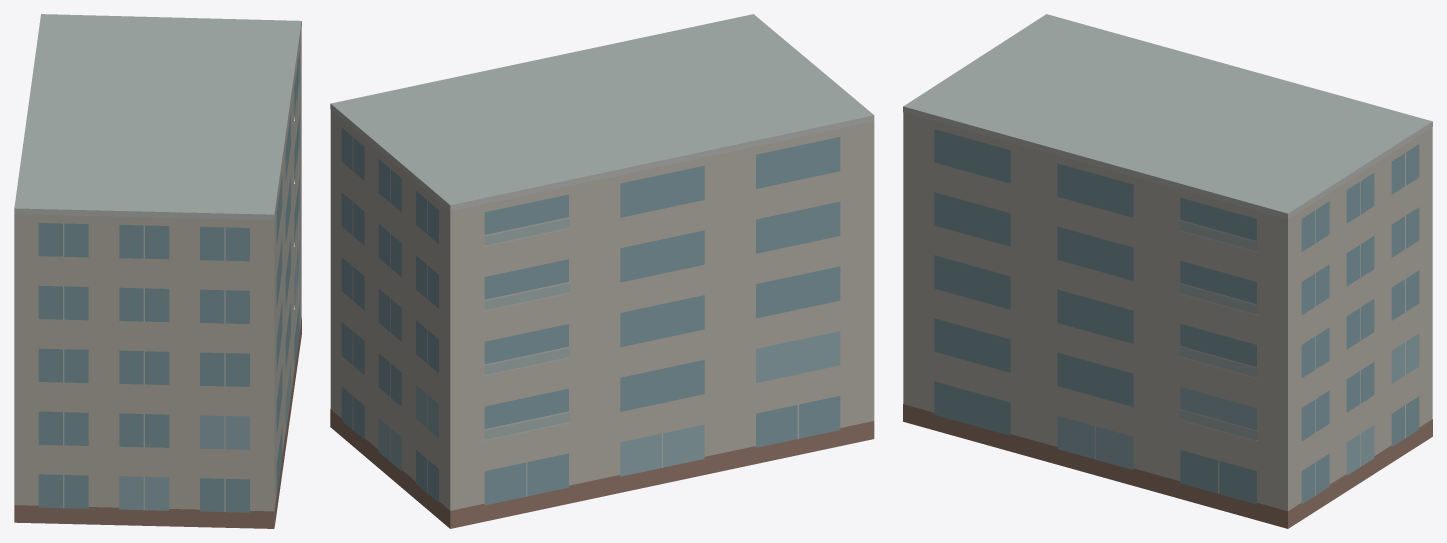
Rendered from survey-upis-32627890.glb.
3 renders of one model, left to right at view 1: azimuth 30°, elevation 25°; view 2: azimuth 150°, elevation 25°; view 3: azimuth 270°, elevation 25°, orthographic. The views are drawn at different scales.
Parts seen in each view (by area): view 1: survey-upis-32627890.tmp; view 2: survey-upis-32627890.tmp; view 3: survey-upis-32627890.tmp.
Boxes of the visible parts, box(x1,y1,x2,y2) form: survey-upis-32627890.tmp: box(14, 14, 301, 528); survey-upis-32627890.tmp: box(330, 14, 874, 528); survey-upis-32627890.tmp: box(903, 14, 1432, 528).
Size of the model in its own units: 18.07 by 13.3 by 20.25.
